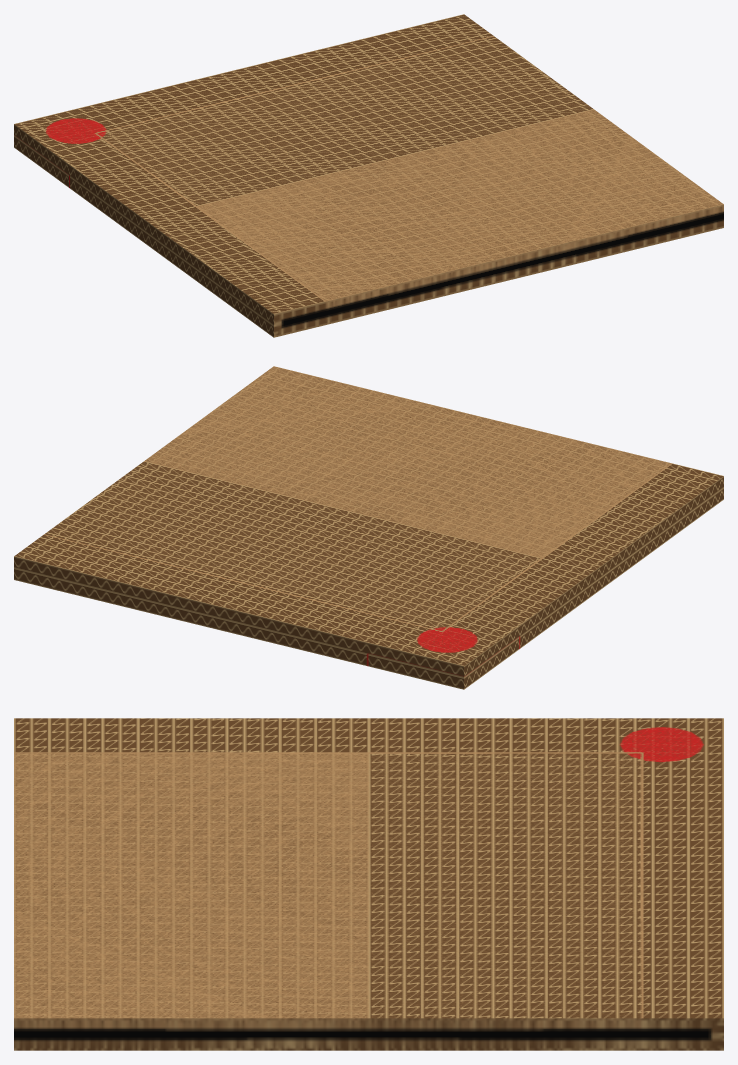
The model's file is 23-clock-base-back-left.fbx.
3 renders of one model, top to bottom at view 1: azimuth 30°, elevation 25°; view 2: azimuth 150°, elevation 25°; view 3: azimuth 270°, elevation 25°, orthographic. The views are drawn at different scales.
Visible parts, largest first — view 1: clock-base-back-left; view 2: clock-base-back-left; view 3: clock-base-back-left.
Boxes of the visible parts, <box> form: clock-base-back-left: <box>14,14,723,337</box>; clock-base-back-left: <box>14,366,723,689</box>; clock-base-back-left: <box>14,718,723,1050</box>.
Bounding box in the file's own units: 8000 × 400 × 8000.
Materials: 1 (1 with a texture image).
